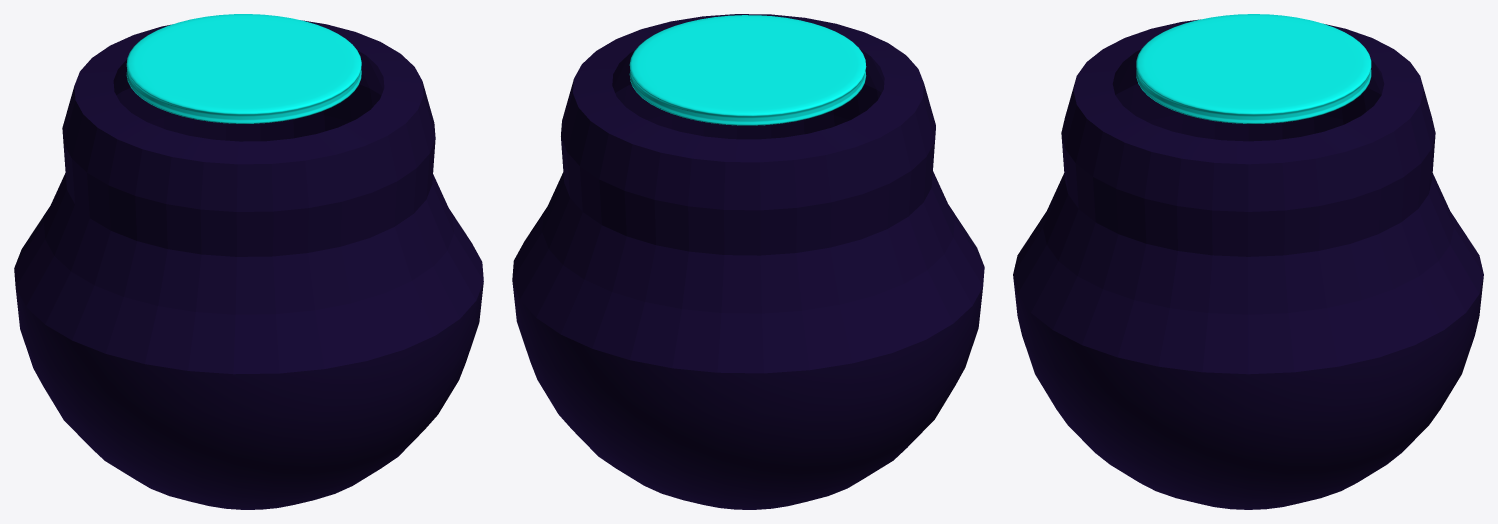
File: deslizador.FBX
3 renders of one model, left to right at view 1: azimuth 30°, elevation 25°; view 2: azimuth 150°, elevation 25°; view 3: azimuth 270°, elevation 25°, orthographic.
Parts seen in each view (by area): view 1: InstrumentoDeChampuses, BaseChampuses; view 2: InstrumentoDeChampuses, BaseChampuses; view 3: InstrumentoDeChampuses, BaseChampuses.
Boxes of the visible parts, x1,y1,x2,y2 form: InstrumentoDeChampuses: (14,20,483,509); BaseChampuses: (126,14,361,123); InstrumentoDeChampuses: (512,14,984,509); BaseChampuses: (629,15,866,125); InstrumentoDeChampuses: (1013,19,1483,509); BaseChampuses: (1136,14,1371,123).
Size of the model in its own units: 35.84 by 35.65 by 35.84.
